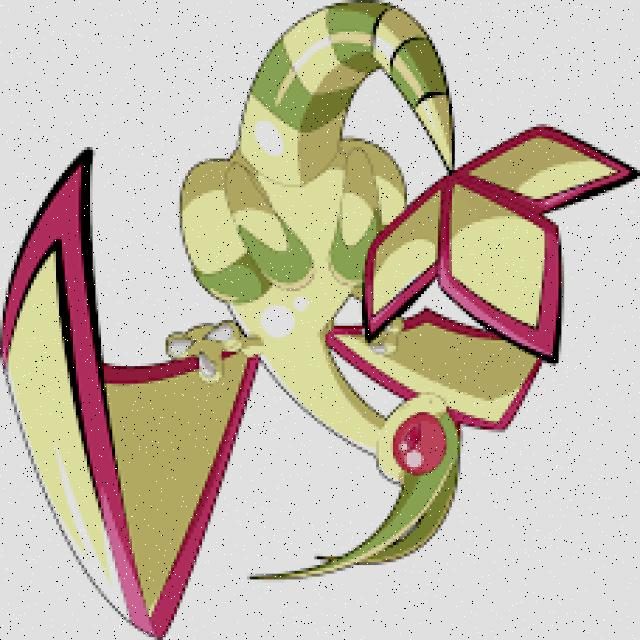flygon: (0, 6, 640, 637)
